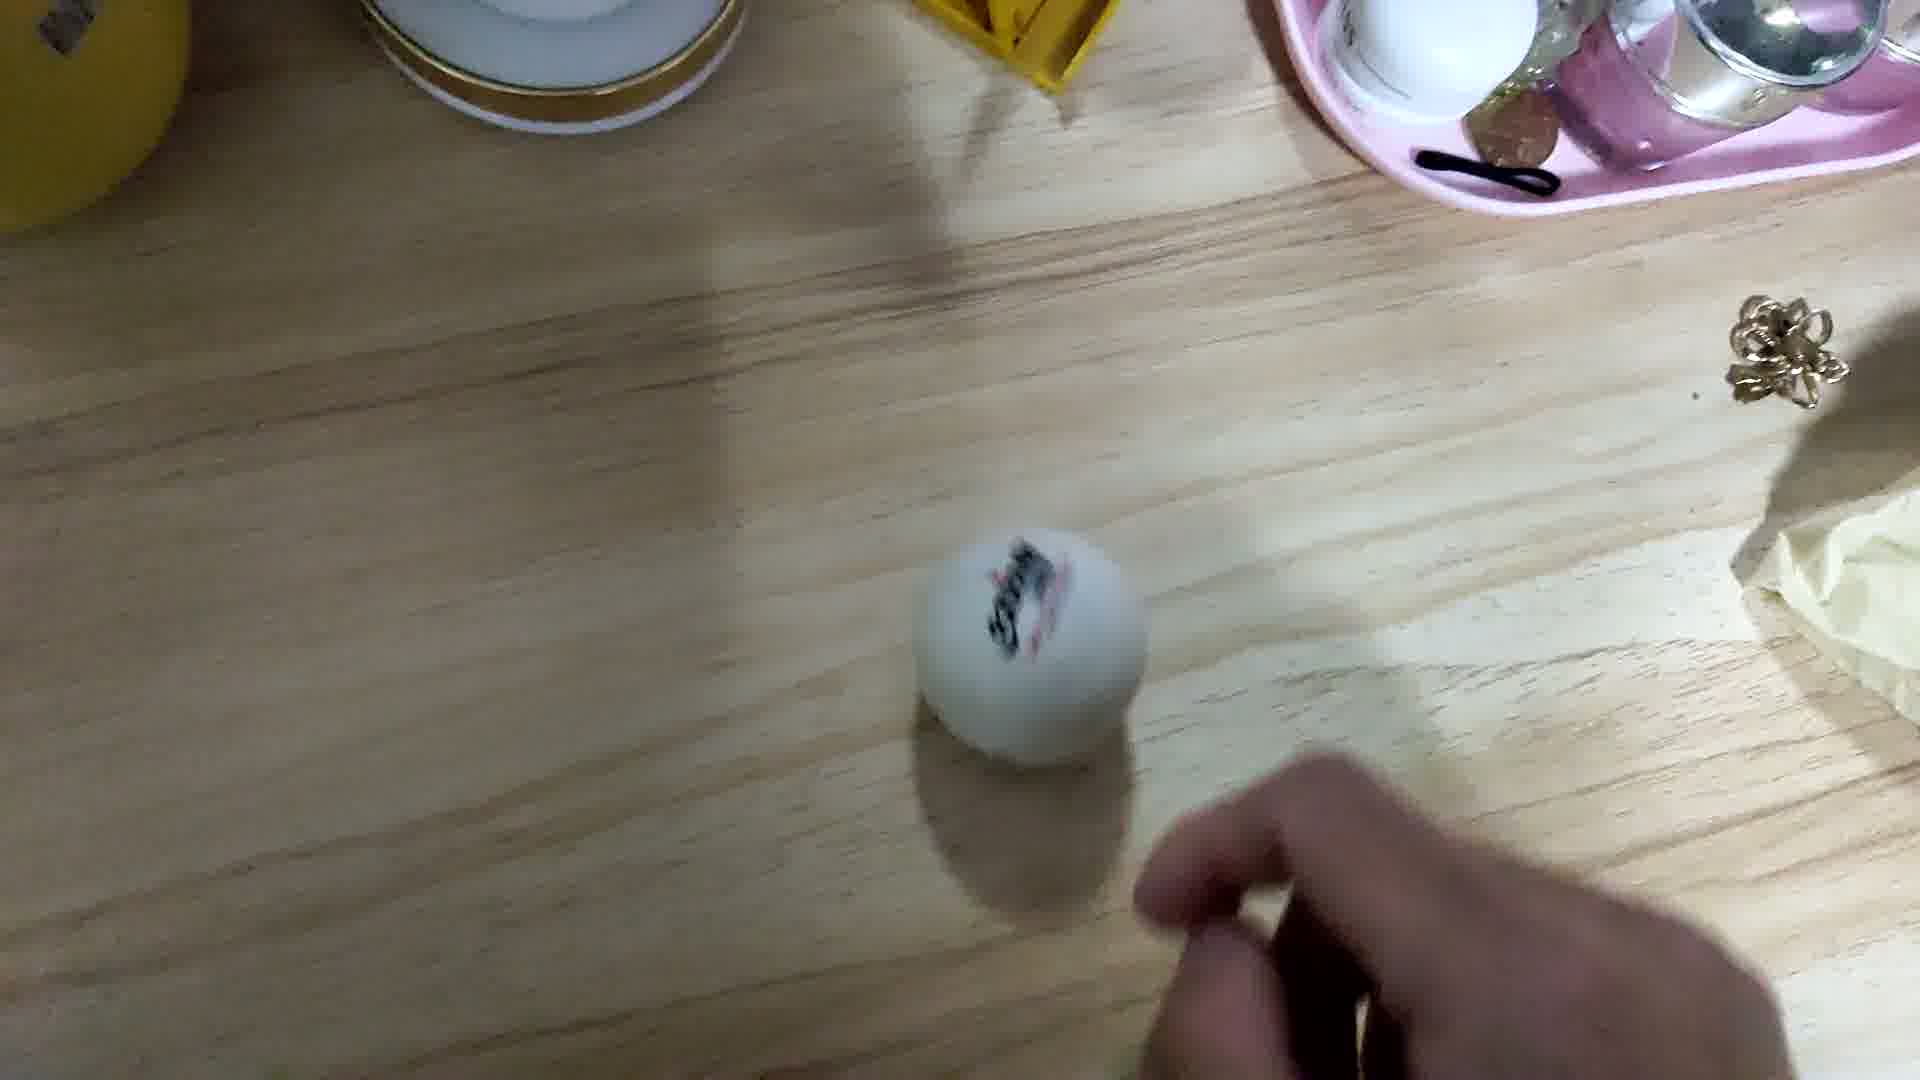Ball: (922, 521, 1156, 771)
